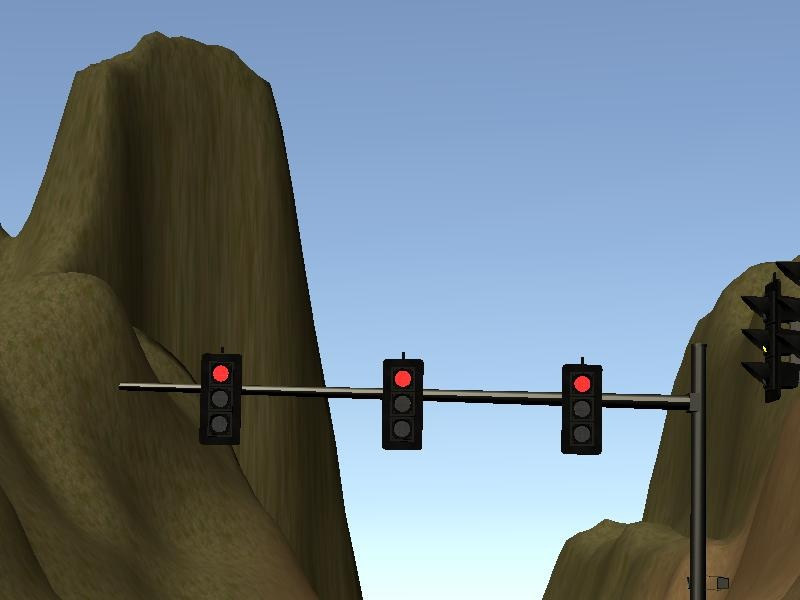RED: (381, 359, 423, 450), (561, 365, 603, 453), (199, 352, 240, 442)
